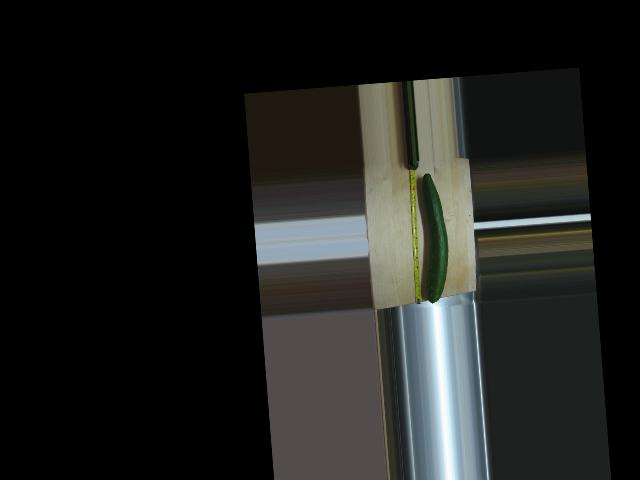cucumber: (416, 172, 452, 303)
